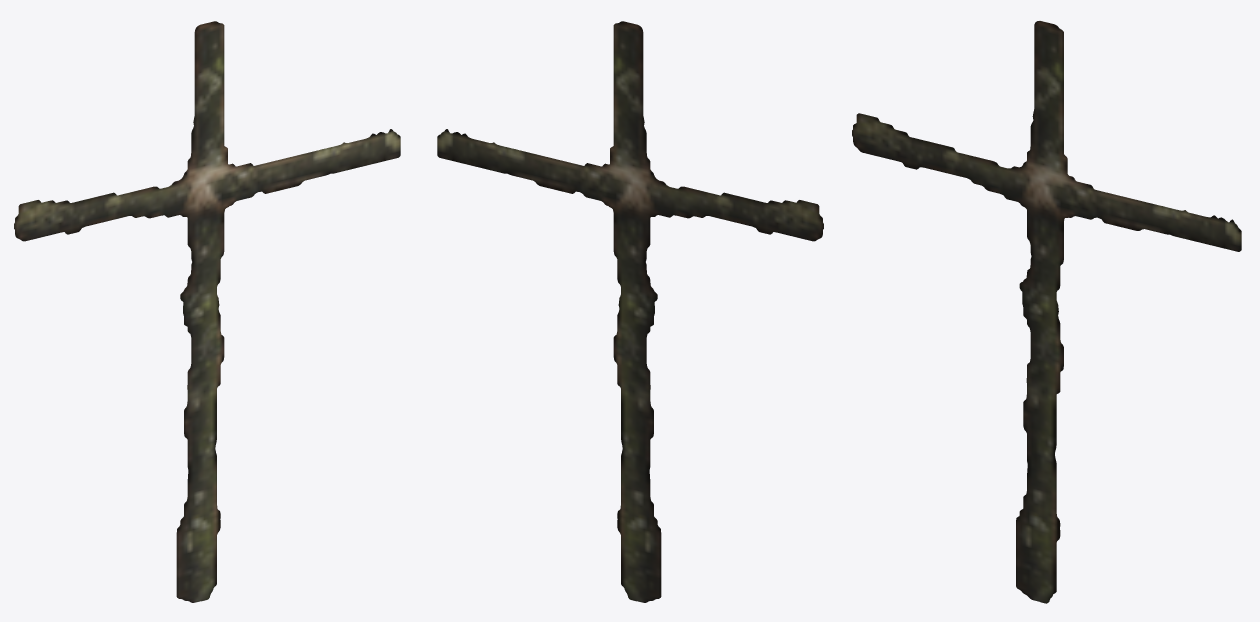
Rendered from swamp_cross_1.FBX.
3 renders of one model, left to right at view 1: azimuth 30°, elevation 25°; view 2: azimuth 150°, elevation 25°; view 3: azimuth 330°, elevation 25°, orthographic.
Parts seen in each view (by area): view 1: swamp_cross_1; view 2: swamp_cross_1; view 3: swamp_cross_1.
Boxes of the visible parts, bbox=[...] form: swamp_cross_1: bbox=[14, 21, 400, 602]; swamp_cross_1: bbox=[437, 21, 823, 602]; swamp_cross_1: bbox=[852, 21, 1241, 603].
Bounding box in the file's own units: 47.43 × 67.41 × 0.1569.
